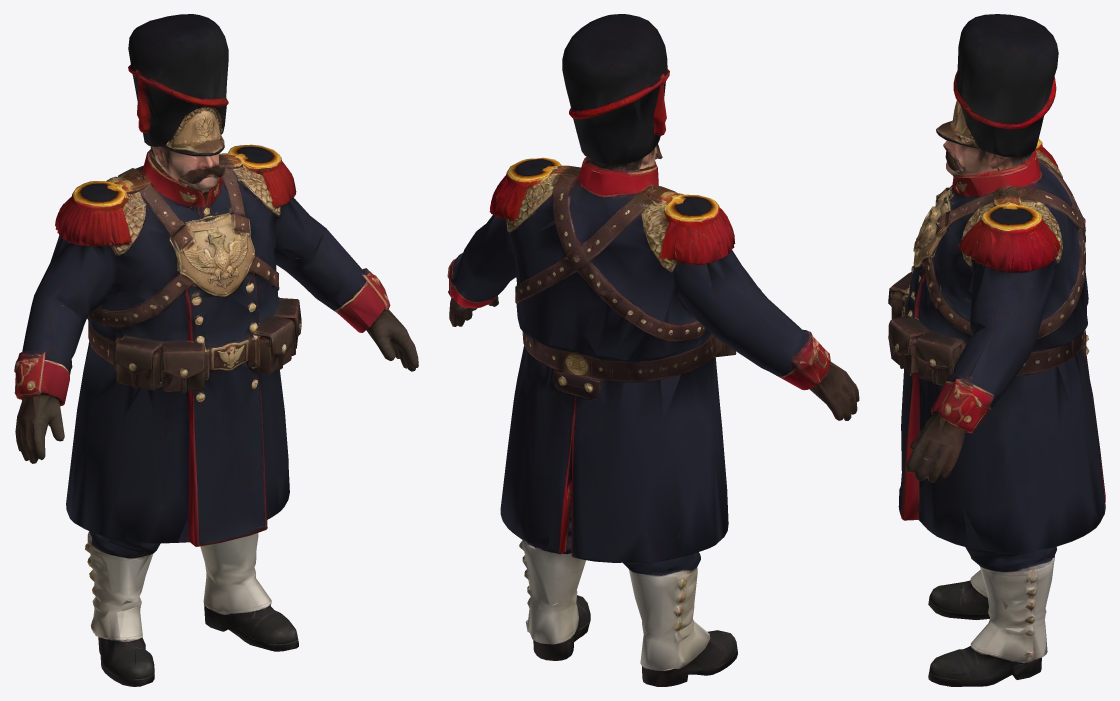
The model's file is 044ccbd8-c9d3-452e-8524-4a47034b8fe2.glb.
The picture shows the model from 3 angles, left to right: view 1: azimuth 30°, elevation 25°; view 2: azimuth 150°, elevation 25°; view 3: azimuth 270°, elevation 25°; orthographic projection.
Parts seen in each view (by area): view 1: Mesh_0; view 2: Mesh_0; view 3: Mesh_0.
Boxes of the visible parts, x1,y1,x2,y2 form: Mesh_0: (14, 14, 418, 686); Mesh_0: (447, 14, 859, 686); Mesh_0: (888, 14, 1105, 686).
Bounding box in the file's own units: 1.15 × 1.75 × 0.5564.
Materials: 1 (1 with a texture image).
